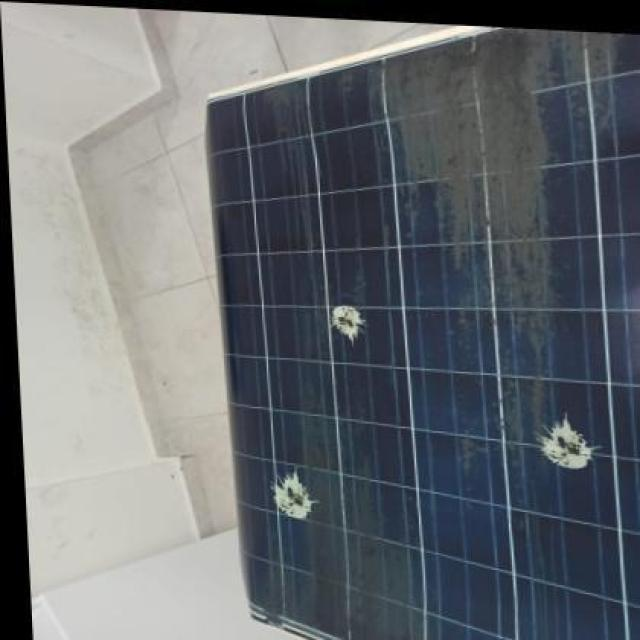soiled: (212, 22, 637, 636)
